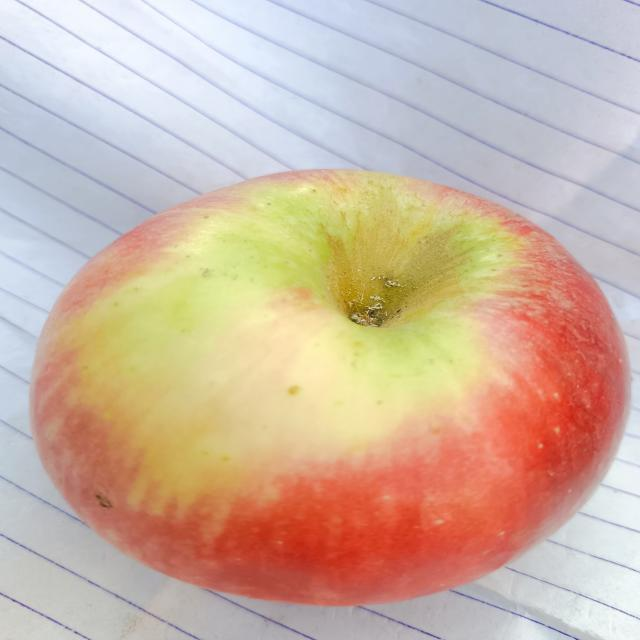Fresh Apple: (33, 175, 615, 608)
